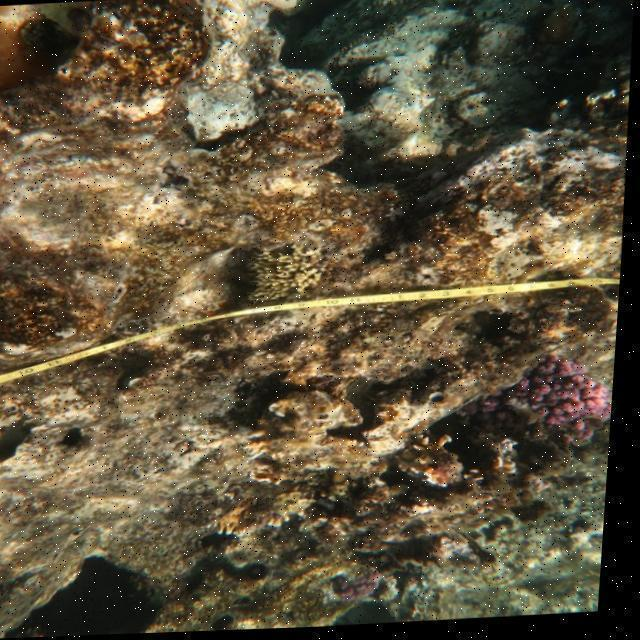Healthy Coral: (518, 349, 621, 442)
